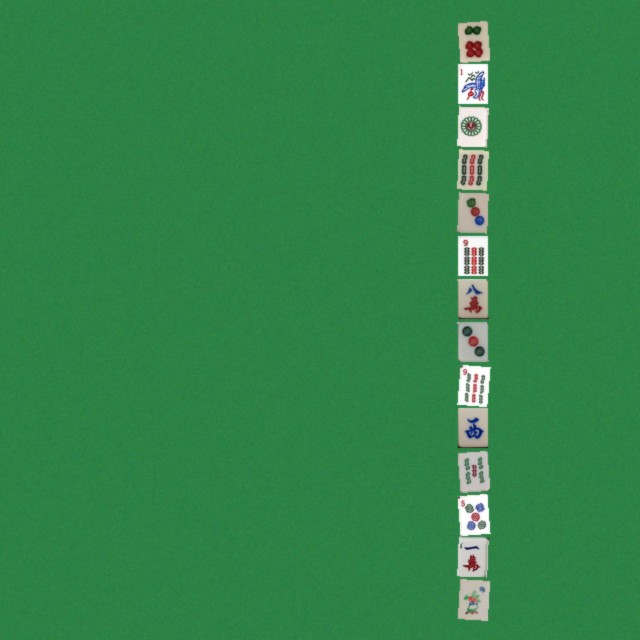tile: (457, 20, 487, 60), (457, 63, 487, 103), (457, 106, 487, 146), (457, 149, 487, 189), (457, 192, 487, 232), (457, 235, 487, 275), (457, 278, 487, 318), (457, 321, 487, 361), (457, 364, 487, 404), (457, 407, 487, 447), (457, 450, 487, 490), (457, 493, 487, 533), (457, 536, 487, 576), (457, 579, 487, 619)
